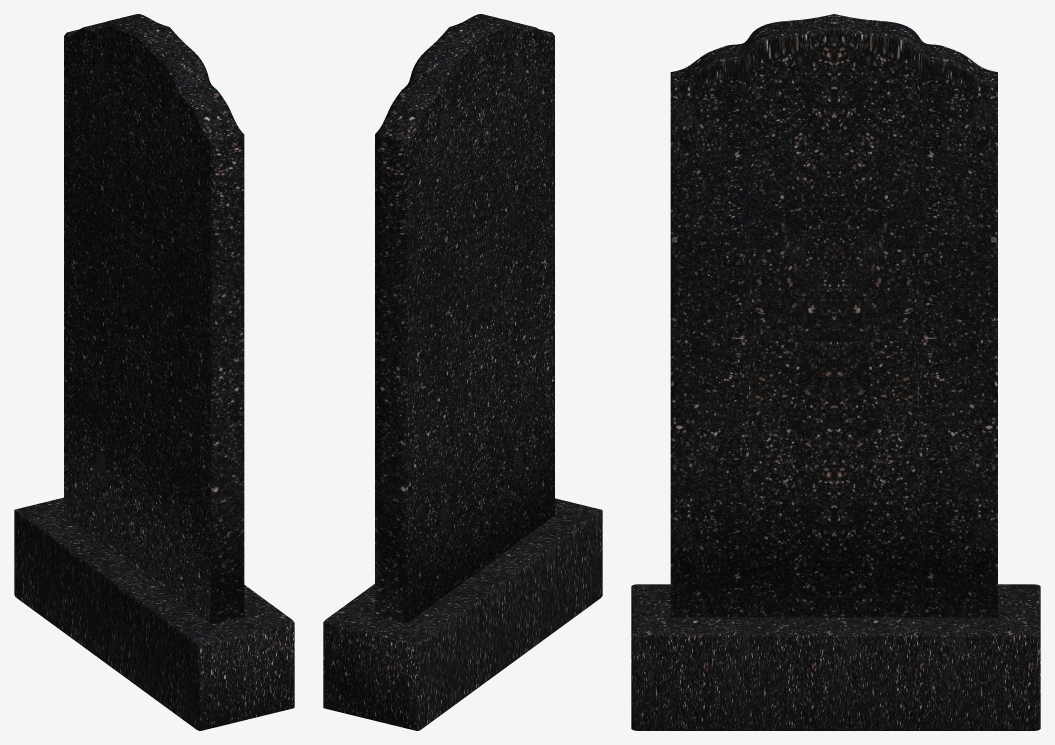
Rendered from Мус 2 [granite_1_muslim] (80).glb.
3 views of the same model, side by side, from view 1: azimuth 30°, elevation 25°; view 2: azimuth 150°, elevation 25°; view 3: azimuth 270°, elevation 25° (orthographic). The views are drawn at different scales.
Visible parts, largest first — view 1: Cube, Куб.003; view 2: Cube, Куб.003; view 3: Cube, Куб.003.
Boxes of the visible parts, x1,y1,x2,y2 form: Cube: [64, 14, 244, 623]; Куб.003: [14, 497, 294, 730]; Cube: [375, 14, 554, 622]; Куб.003: [323, 498, 602, 730]; Cube: [670, 14, 997, 617]; Куб.003: [631, 584, 1040, 730].
Bounding box in the file's own units: 0.15 × 0.9224 × 0.5.
Materials: 1 (1 with a texture image).
